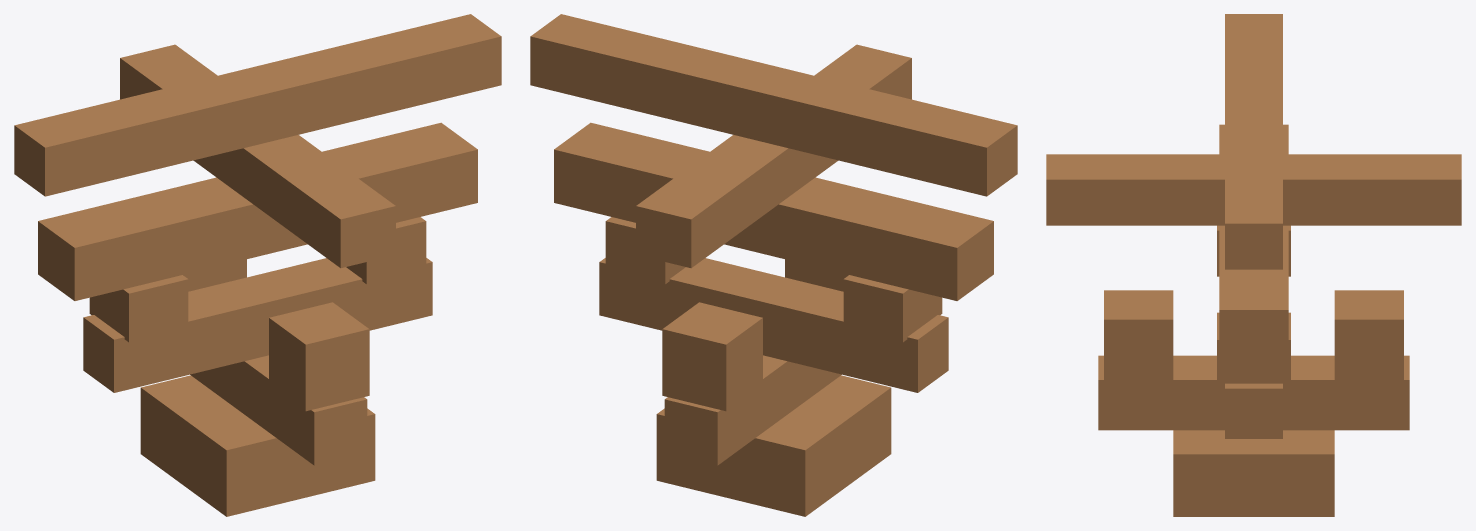
The model's file is assembly-demo.glb.
The picture shows the model from 3 angles, left to right: view 1: azimuth 30°, elevation 25°; view 2: azimuth 150°, elevation 25°; view 3: azimuth 270°, elevation 25°; orthographic projection. The views are drawn at different scales.
Parts seen in each view (by area): view 1: part_09, part_05, part_02, part_00, part_08, part_06, part_01, part_03, part_04, part_07; view 2: part_09, part_05, part_02, part_00, part_08, part_07, part_01, part_03, part_04, part_06; view 3: part_08, part_01, part_09, part_00, part_05, part_06, part_07, part_02, part_04.
Boxes of the visible parts, <box> form: part_09: <box>14,14,501,196</box>; part_05: <box>38,122,477,300</box>; part_02: <box>83,258,432,392</box>; part_00: <box>140,375,375,516</box>; part_08: <box>120,44,395,268</box>; part_06: <box>269,302,369,411</box>; part_01: <box>190,355,367,465</box>; part_03: <box>89,275,188,342</box>; part_04: <box>346,217,426,284</box>; part_07: <box>183,259,246,291</box>; part_09: <box>530,14,1017,196</box>; part_05: <box>554,122,993,300</box>; part_02: <box>599,258,948,392</box>; part_00: <box>656,375,891,516</box>; part_08: <box>636,44,911,268</box>; part_07: <box>662,302,762,411</box>; part_01: <box>664,355,841,465</box>; part_03: <box>843,275,942,342</box>; part_04: <box>605,217,685,284</box>; part_06: <box>785,259,848,291</box>; part_08: <box>1046,154,1461,225</box>; part_01: <box>1098,355,1409,430</box>; part_09: <box>1225,14,1282,269</box>; part_00: <box>1173,430,1334,516</box>; part_05: <box>1219,124,1288,359</box>; part_06: <box>1104,290,1173,382</box>; part_07: <box>1334,290,1403,382</box>; part_02: <box>1225,383,1282,438</box>; part_04: <box>1217,312,1290,385</box>.
Size of the model in its own units: 2.15 by 1.74 by 1.8.
